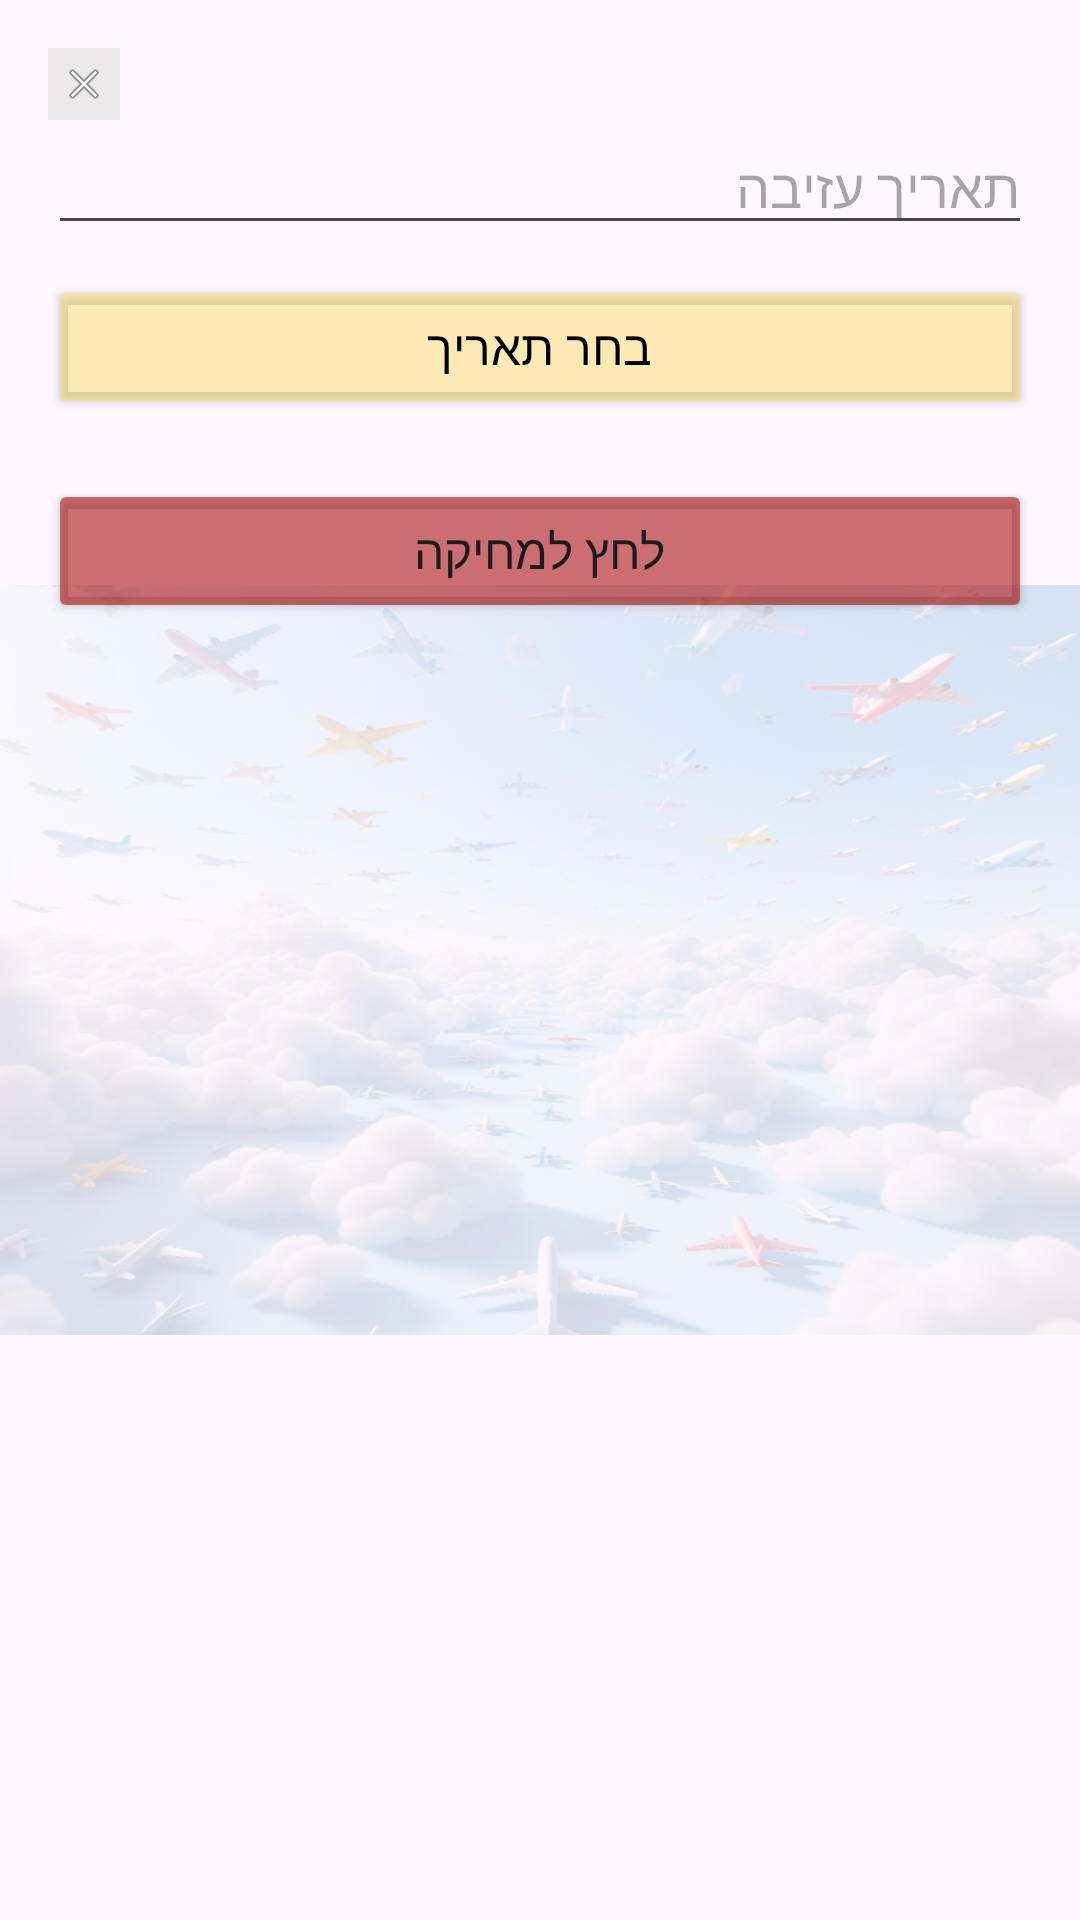

Named icons in this screenshot (1080 × 1920) and their centers, (x=x, y=y):
close clear cancel: (x=84, y=84)
